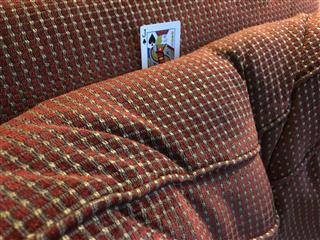JackOfSpades: (138, 20, 181, 68)
